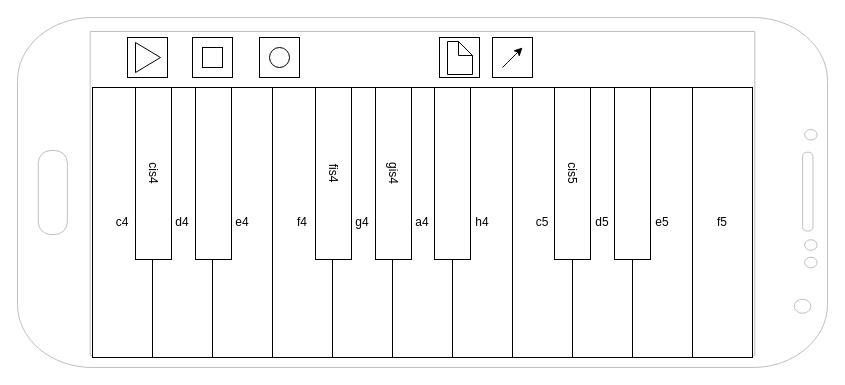
Some shapes in this 845 by 385 pixel diagram are drawn without their labels. The shapes that lost their labels are listed below. From the top down, each one's centre as x and y in pixels, then its label:
At point (213, 173): "dis4".
At point (452, 173): "ais4".
At point (632, 173): "dis5".
